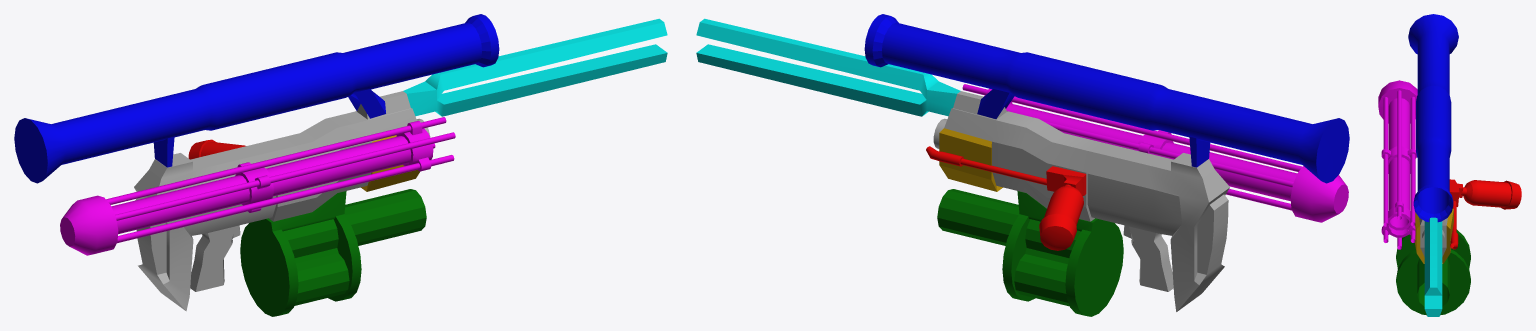
The model's file is BaseGUnOP2.fbx.
The picture shows the model from 3 angles, left to right: view 1: azimuth 30°, elevation 25°; view 2: azimuth 150°, elevation 25°; view 3: azimuth 270°, elevation 25°; orthographic projection. The views are drawn at different scales.
Visible parts, largest first — view 1: Bazooka, BaseGun, Rail_Las, ChainBase, ChainRail, GrenadeFrame, GrenadeRev, GrenadeNozz, PumpAct, FLameCylinder; view 2: Bazooka, BaseGun, Rail_Las, GrenadeFrame, ChainBase, ChainRail, GrenadeNozz, GrenadeRev, PumpAct, FLameCylinder, Flamehose, Chamber; view 3: Bazooka, ChainRail, GrenadeFrame, ChainBase, Rail_Las, FLameCylinder, GrenadeNozz, PumpAct, BaseGun, Chamber, Flamehose.
Part boxes in pixels (x1,y1,x2,y2): Bazooka: (14, 14, 499, 183); BaseGun: (134, 91, 430, 311); Rail_Las: (403, 18, 667, 116); ChainBase: (60, 136, 411, 255); ChainRail: (106, 117, 455, 243); GrenadeFrame: (240, 191, 361, 316); GrenadeRev: (283, 219, 349, 305); GrenadeNozz: (344, 189, 426, 245); PumpAct: (361, 135, 419, 191); FLameCylinder: (188, 139, 245, 159); Bazooka: (864, 14, 1349, 183); BaseGun: (933, 91, 1229, 311); Rail_Las: (696, 18, 960, 116); GrenadeFrame: (1002, 191, 1123, 316); ChainBase: (1006, 103, 1348, 222); ChainRail: (962, 84, 1302, 210); GrenadeNozz: (937, 189, 1019, 245); GrenadeRev: (1014, 219, 1080, 306); PumpAct: (939, 128, 1002, 191); FLameCylinder: (1039, 184, 1083, 250); Flamehose: (926, 146, 1046, 185); Chamber: (1046, 166, 1086, 195); Bazooka: (1408, 14, 1458, 222); ChainRail: (1381, 90, 1416, 249); GrenadeFrame: (1396, 229, 1470, 315); ChainBase: (1378, 80, 1417, 227); Rail_Las: (1424, 217, 1442, 316); FLameCylinder: (1461, 180, 1521, 209); GrenadeNozz: (1417, 258, 1449, 306); PumpAct: (1415, 208, 1453, 263); BaseGun: (1419, 217, 1447, 256); Chamber: (1449, 179, 1463, 206); Flamehose: (1450, 201, 1458, 249).
Size of the model in its own units: 208 by 78.92 by 54.25.
